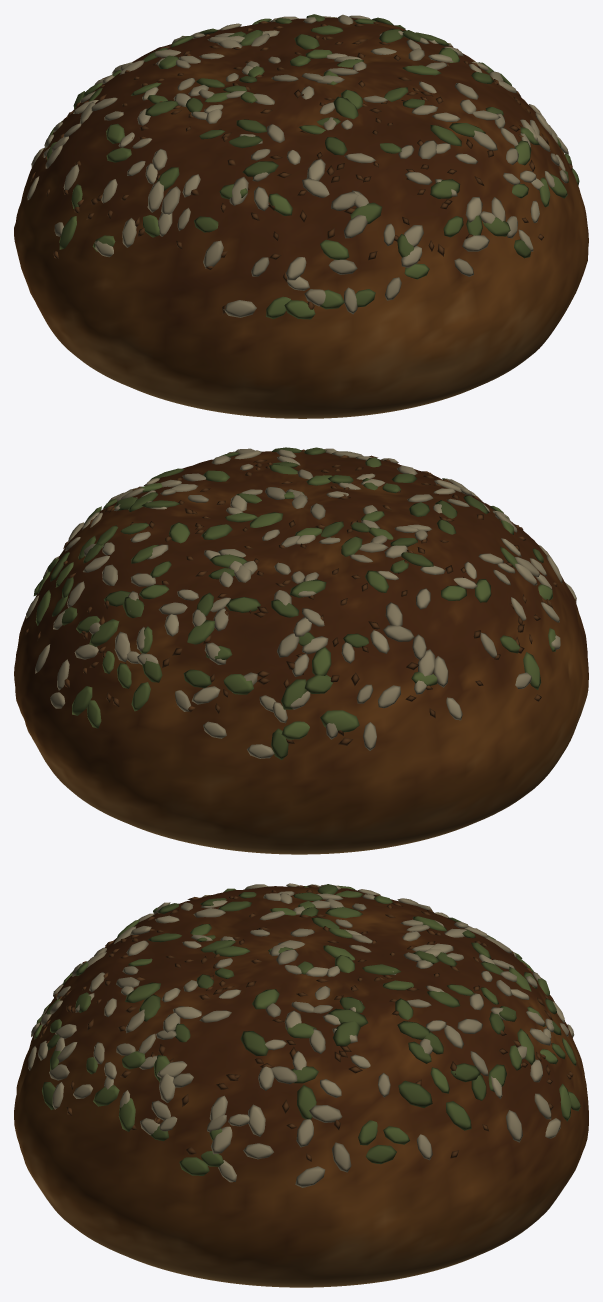
Rendered from bergsteiger-500g.glb.
3 renders of one model, top to bottom at view 1: azimuth 30°, elevation 25°; view 2: azimuth 150°, elevation 25°; view 3: azimuth 270°, elevation 25°, orthographic.
Visible parts, largest first — view 1: bergsteiger-500g; view 2: bergsteiger-500g; view 3: bergsteiger-500g.
Part boxes in pixels (x1=…): bergsteiger-500g: x1=14, y1=14, x2=588, y2=418; bergsteiger-500g: x1=14, y1=447, x2=588, y2=854; bergsteiger-500g: x1=14, y1=883, x2=588, y2=1287.
Bounding box in the file's own units: 0.18 × 0.0859 × 0.18.
